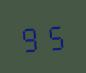five: (43, 20, 66, 51)
nine: (19, 21, 42, 53)
